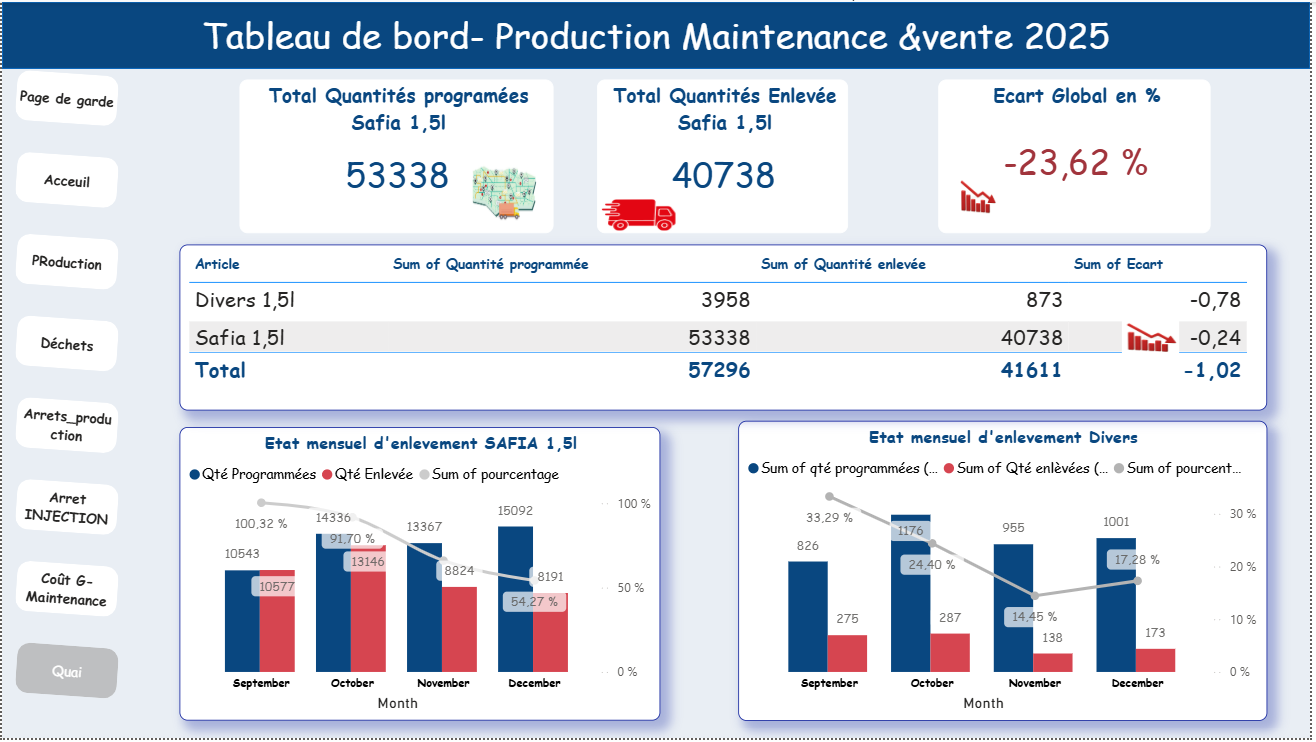

Layout of this report page (visuals, bound fields, positions):
{"tool":"powerbi","page":{"name":"Quai","canvas":[1280,720],"ordinal":7},"visuals":[{"type":"lineClusteredColumnComboChart","title":"Etat mensuel d''enlevement SAFIA 1,5l","fields":{"Y":["Suivie d'enlèvement  (ksiba) xlsx - Safia (1,5L) par mois.Qté Programmées","Suivie d'enlèvement  (ksiba) xlsx - Safia (1,5L) par mois.Qté Enlevée"],"Category":["Suivie d'enlèvement  (ksiba) xlsx - Safia (1,5L) par mois.date.Variation.Date Hierarchy.Month"],"Y2":["Sum(Suivie d'enlèvement  (ksiba) xlsx - Safia (1,5L) par mois.pourcentage)"]},"box":[173.6,415.8,470.8,287.4],"z":0},{"type":"lineClusteredColumnComboChart","title":"Etat mensuel d''enlevement Divers ","fields":{"Category":["Suivie d'enlèvement  (ksiba) xlsx - Divers (1,5l)par mois.date.Variation.Date Hierarchy.Month"],"Y":["Sum(Suivie d'enlèvement  (ksiba) xlsx - Divers (1,5l)par mois.qté programmées (Divers 1,5L))","Sum(Suivie d'enlèvement  (ksiba) xlsx - Divers (1,5l)par mois.Qté enlèvées (Divers 1,5L))"],"Y2":["Sum(Suivie d'enlèvement  (ksiba) xlsx - Divers (1,5l)par mois.pourcentage)"]},"box":[720.2,409.6,517.3,293.5],"z":3000},{"type":"pageNavigator","box":[0,65.5,127.4,622.6],"z":4000},{"type":"shape","box":[0,0,1279.8,65.5],"z":5000},{"type":"card","title":"Total Quantités programées Safia 1,5l","fields":{"Values":["Sum(Suivie d'enlèvement  (ksiba) xlsx - Safia (1,5L) par mois.qté programmées (safia 1,5L))"]},"box":[232.3,75.8,306.9,150.4],"z":6000},{"type":"card","title":"Total Quantités Enlevée  Safia 1,5l","fields":{"Values":["Sum(Suivie d'enlèvement  (ksiba) xlsx - Safia (1,5L) par mois.Qté enlèvées (safia 1,5L))"]},"box":[582.1,75.8,245.8,150.4],"z":7000},{"type":"card","title":"Ecart Global en %","fields":{"Values":["Suivie d'enlèvement  (ksiba) xlsx - Safia (1,5L) par mois.Ecart Safia %"]},"box":[915.9,75.8,266.6,150.4],"z":8000},{"type":"image","box":[929.4,162.6,50.1,55],"z":9000},{"type":"tableEx","fields":{"Values":["Suivi Quai.Article ","Sum(Suivi Quai.Quantité programmée)","Sum(Suivi Quai.Quantité enlevée )","Sum(Suivi Quai.Ecart )"]},"box":[173.6,237.2,1063.9,162.6],"z":9001},{"type":"image","box":[1090.8,303.3,66,50.1],"z":9002},{"type":"image","box":[443.9,150.4,95.4,75.8],"z":9003},{"type":"image","box":[582.1,188.3,81.9,40.4],"z":9004}]}

Visuals, with their boxes in screenshot pixels (x1, y1, x2, y2), scaled from the page's 1280x720 canvas onto the 1316x742 screenshot:
"Etat mensuel d''enlevement SAFIA 1,5l" lineClusteredColumnComboChart: bbox=(178, 429, 663, 725)
"Etat mensuel d''enlevement Divers " lineClusteredColumnComboChart: bbox=(740, 422, 1272, 725)
pageNavigator: bbox=(0, 68, 131, 709)
shape: bbox=(0, 0, 1315, 68)
"Total Quantités programées Safia 1,5l" card: bbox=(239, 78, 554, 233)
"Total Quantités Enlevée  Safia 1,5l" card: bbox=(598, 78, 851, 233)
"Ecart Global en %" card: bbox=(942, 78, 1216, 233)
image: bbox=(956, 168, 1007, 224)
tableEx - Suivi Quai.Article  x Sum(Suivi Quai.Quantité programmée): bbox=(178, 244, 1272, 412)
image: bbox=(1121, 313, 1189, 364)
image: bbox=(456, 155, 554, 233)
image: bbox=(598, 194, 683, 236)
